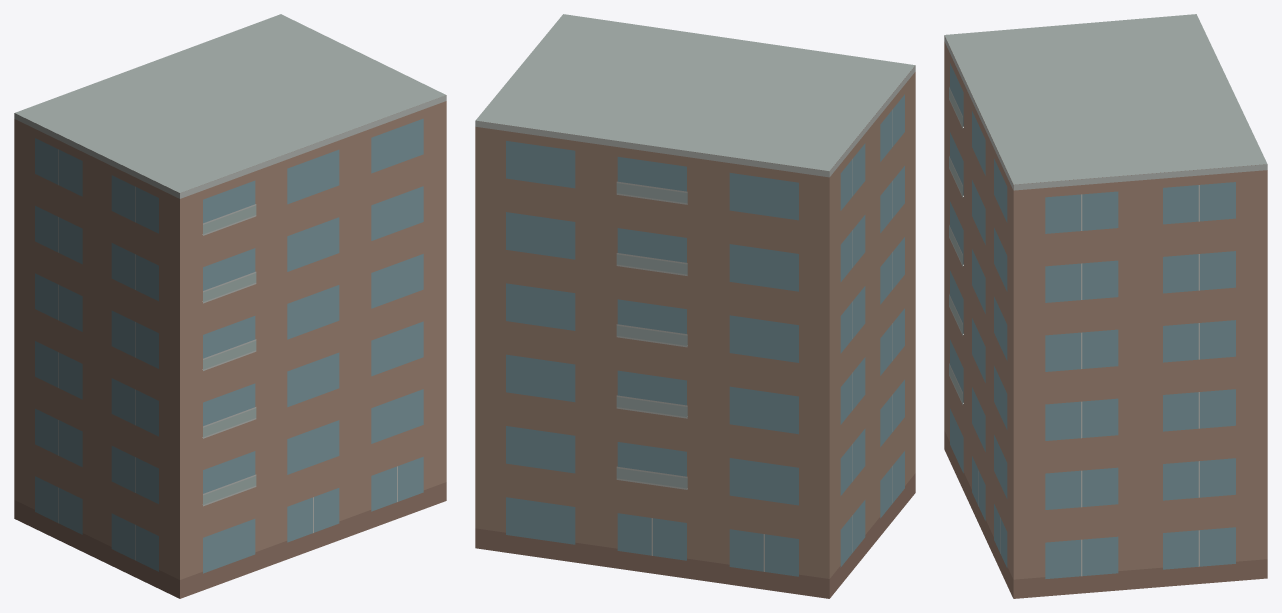
File: survey-upis-32705553.glb
3 renders of one model, left to right at view 1: azimuth 30°, elevation 25°; view 2: azimuth 150°, elevation 25°; view 3: azimuth 270°, elevation 25°, orthographic. The views are drawn at different scales.
Visible parts, largest first — view 1: survey-upis-32705553.tmp; view 2: survey-upis-32705553.tmp; view 3: survey-upis-32705553.tmp.
Part boxes in pixels (x1=…): survey-upis-32705553.tmp: x1=14, y1=14, x2=446, y2=598; survey-upis-32705553.tmp: x1=475, y1=14, x2=915, y2=598; survey-upis-32705553.tmp: x1=944, y1=14, x2=1267, y2=598.
Size of the model in its own units: 14.93 by 16.9 by 11.96.
